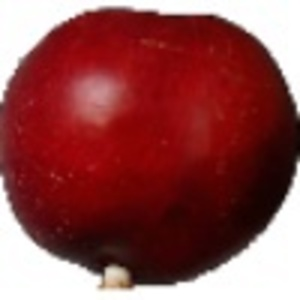nectarina: (1, 5, 300, 295)
